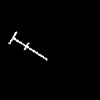double_crochet: (9, 32, 46, 59)
